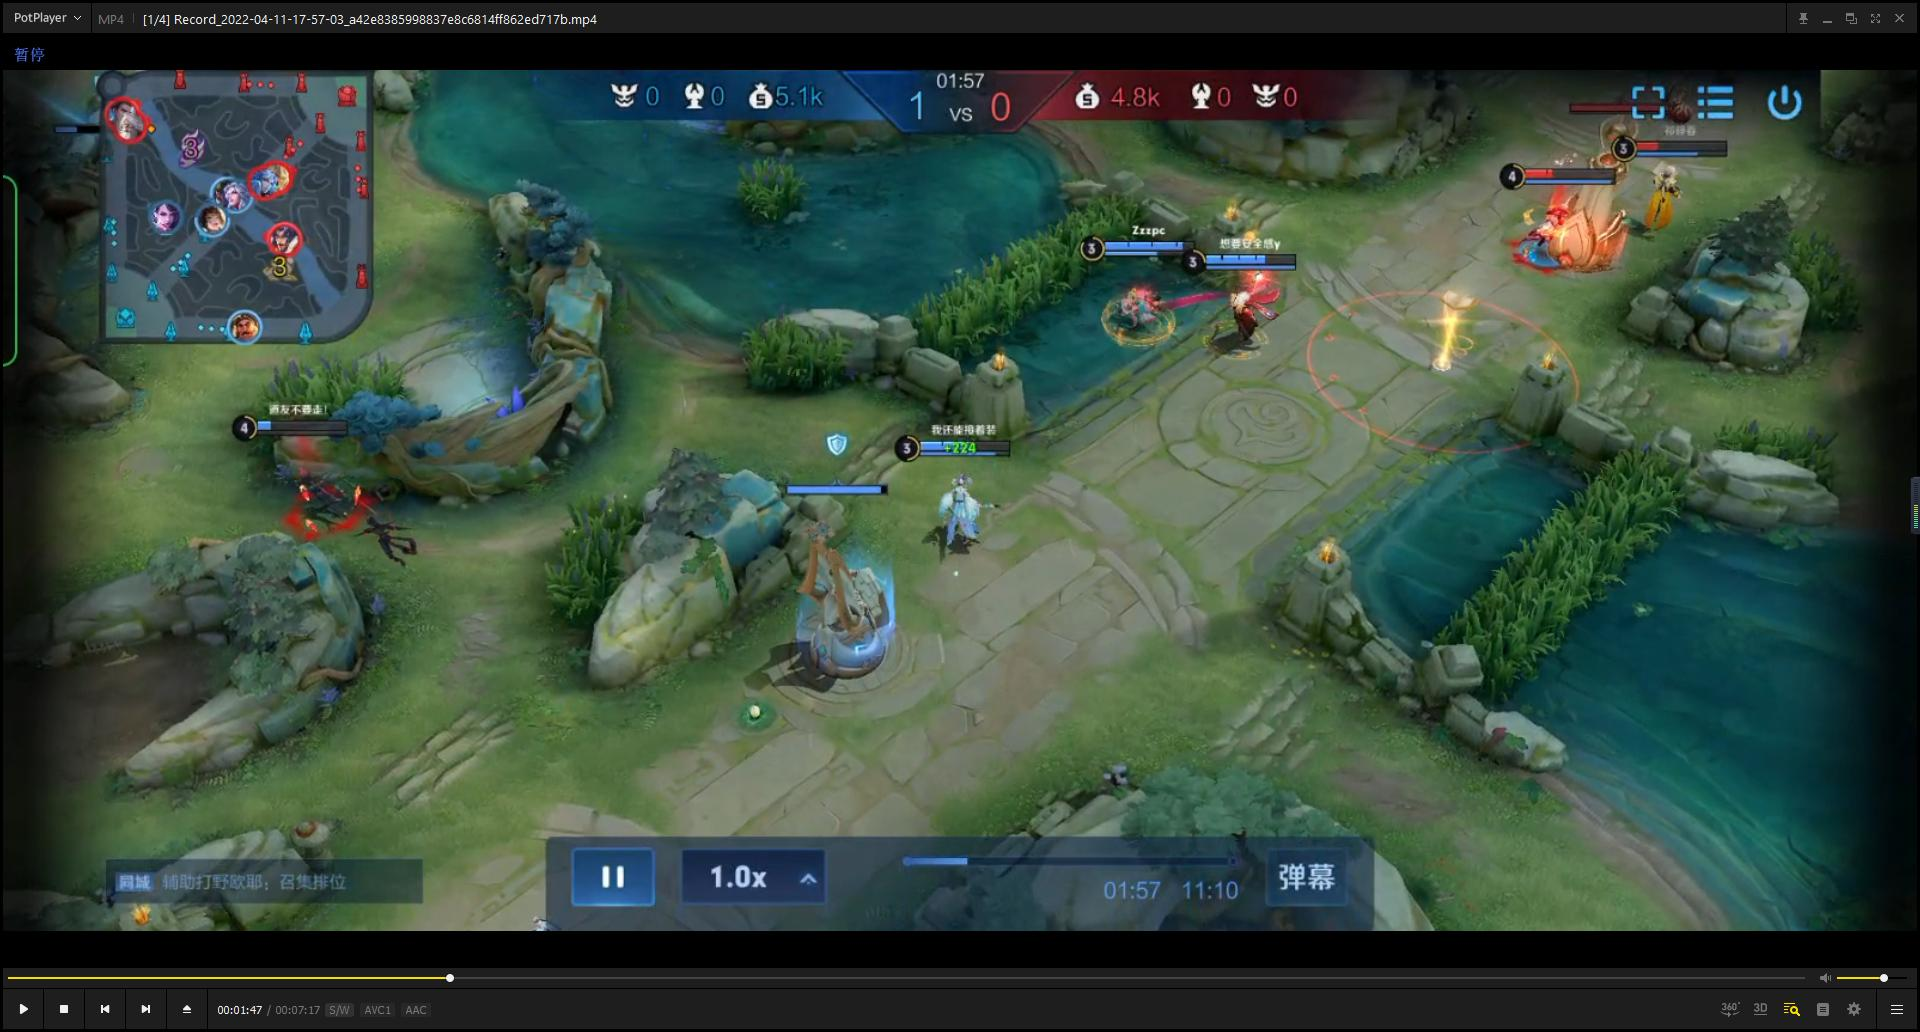Hero: (260, 452, 395, 557), (1201, 273, 1305, 390), (912, 470, 1028, 567), (1632, 159, 1723, 273), (1499, 193, 1581, 281), (1097, 278, 1177, 350)
Tower: (747, 472, 917, 694), (1540, 93, 1690, 311)
